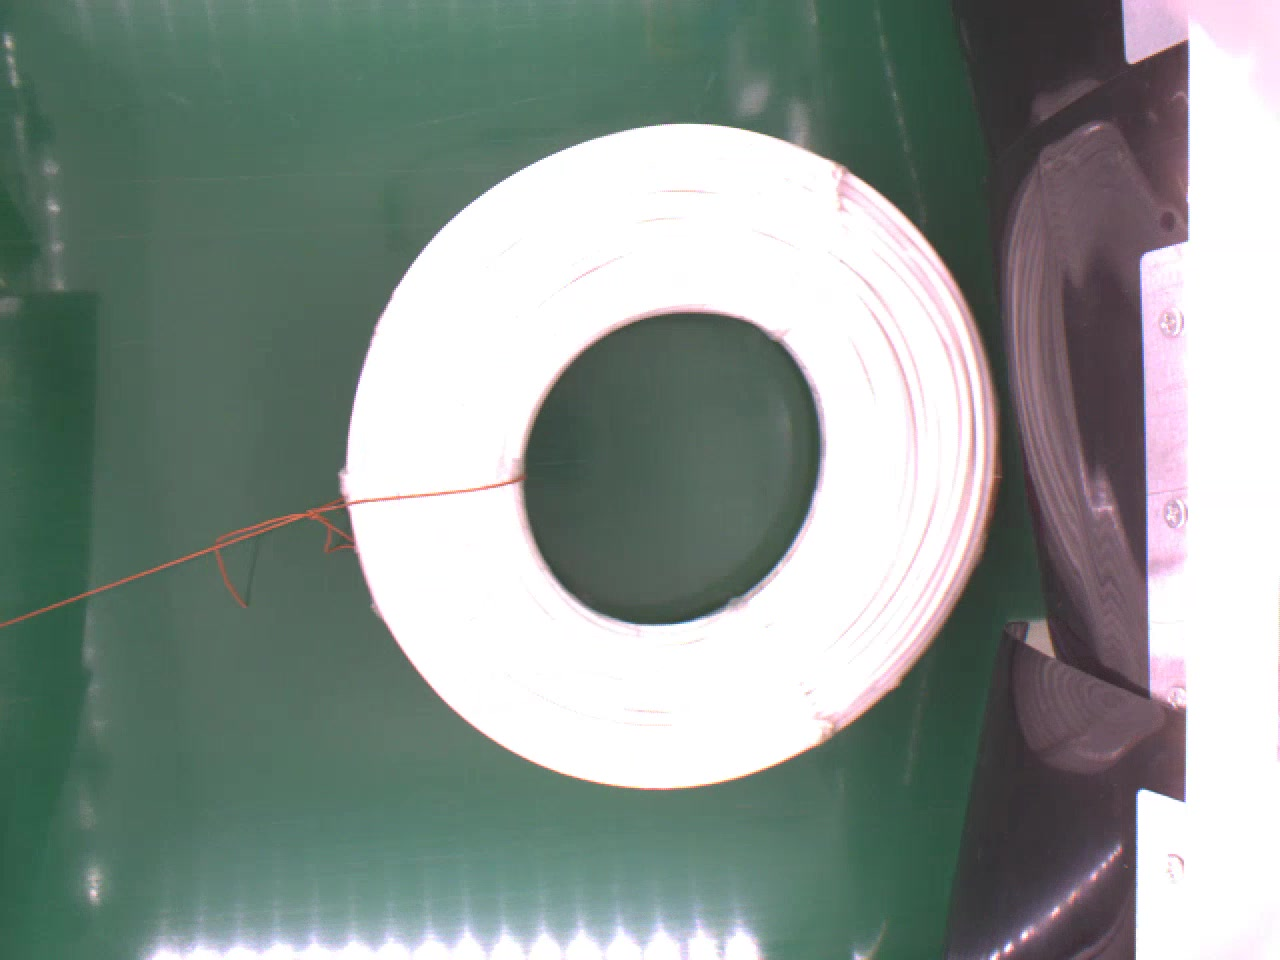white: (338, 118, 1001, 796)
